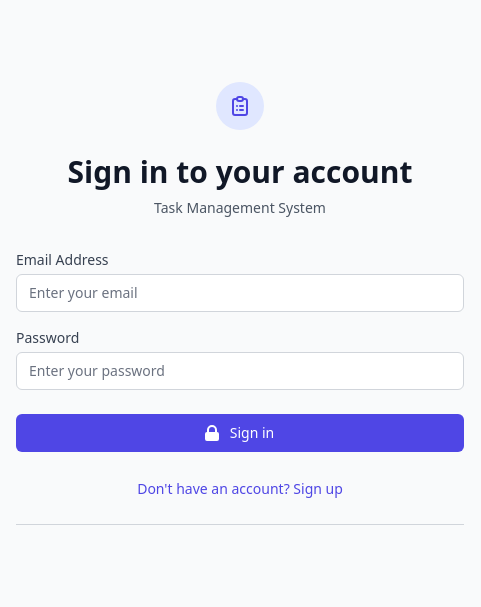
it: Login › switches to signup mode when toggle is clicked
Step 1. Click the button "Don't have an account? Sign up" → (240, 489), box [137, 479, 343, 499]
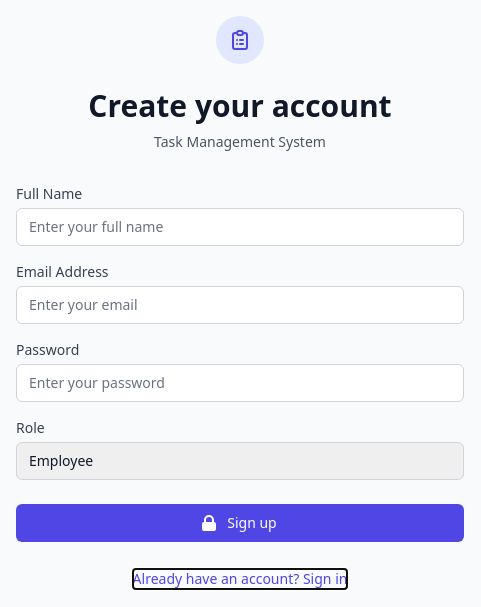
Check: the heading "Create your account" is shown, box [88, 85, 392, 126]
Check: the field labelled "Full Name" is shown, box [16, 208, 464, 246]
Check: the dropdown labelled "Role" is shown, box [16, 442, 464, 480]
